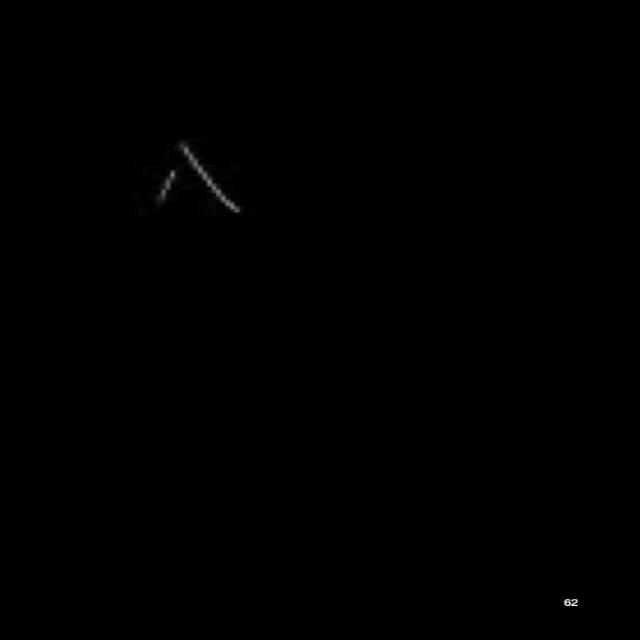8 -eight-: (147, 136, 253, 222)
